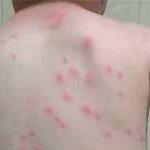Fleas: (78, 101, 103, 121), (59, 87, 76, 105), (52, 114, 68, 130), (51, 10, 64, 27), (84, 33, 94, 49), (43, 104, 55, 116), (53, 71, 65, 82), (86, 71, 93, 86), (125, 127, 133, 136), (70, 68, 77, 77), (11, 53, 17, 62), (117, 71, 123, 79), (105, 131, 112, 137), (32, 129, 37, 136), (106, 67, 111, 73), (11, 35, 15, 41)
